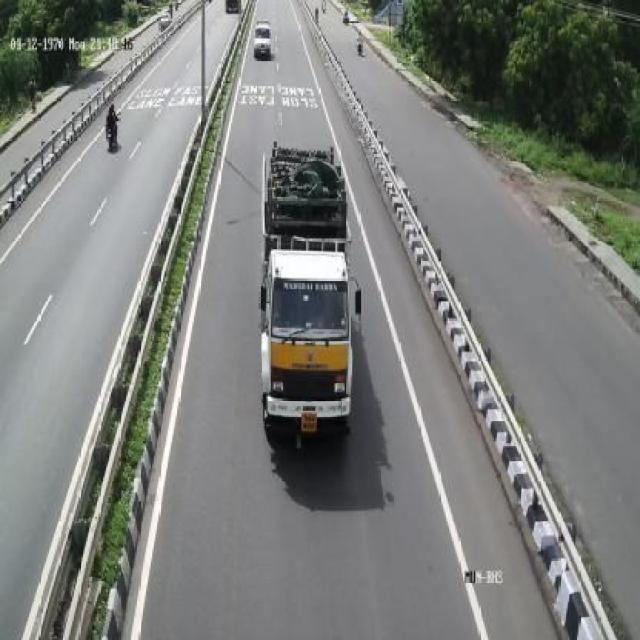car: (248, 17, 278, 66)
